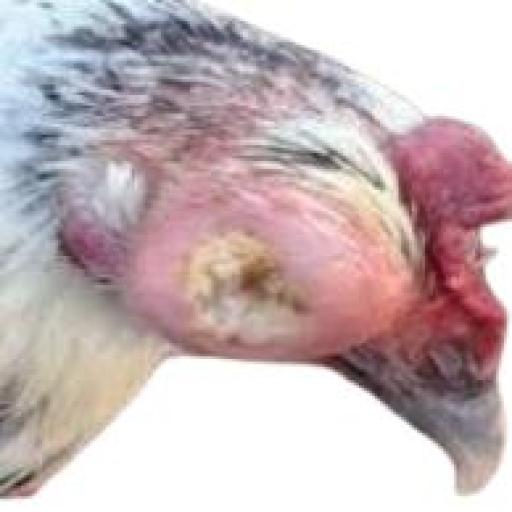disease: (175, 191, 358, 346), (141, 23, 290, 123), (406, 108, 512, 232), (440, 266, 510, 369)
